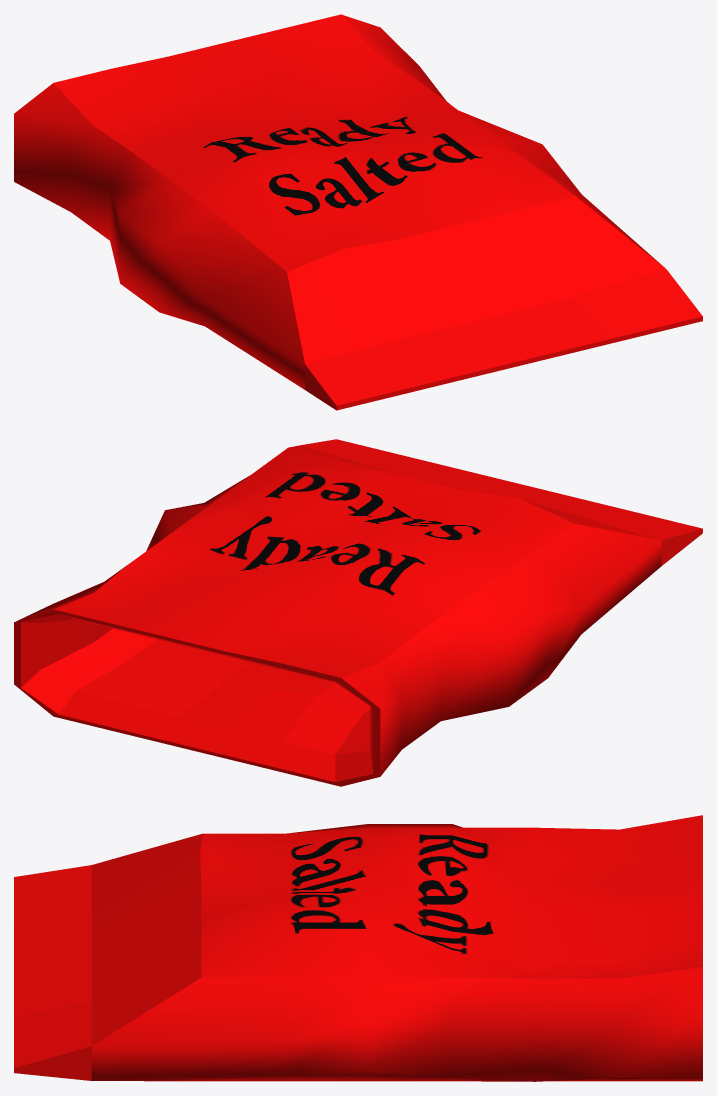
The model's file is Crisps Red.fbx.
3 views of the same model, one above another, from view 1: azimuth 30°, elevation 25°; view 2: azimuth 150°, elevation 25°; view 3: azimuth 270°, elevation 25° (orthographic). The views are drawn at different scales.
Visible parts, largest first — view 1: pCube15; view 2: pCube15; view 3: pCube15.
Boxes of the visible parts, box(x1,y1,x2,y2) form: pCube15: box(14, 14, 702, 410); pCube15: box(14, 439, 702, 786); pCube15: box(14, 815, 702, 1081).
Bounding box in the file's own units: 26.32 × 7.75 × 38.37.
Materials: 1 (1 with a texture image).
